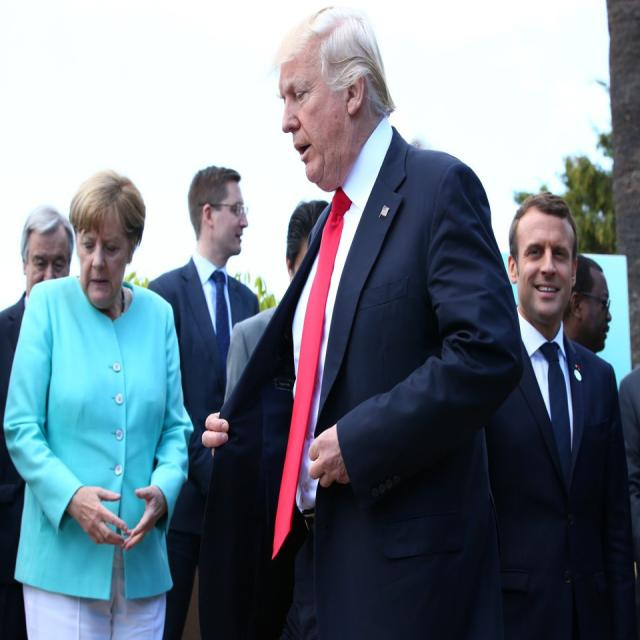body: (197, 0, 529, 638), (0, 159, 193, 639), (480, 188, 640, 640), (144, 164, 266, 639), (0, 204, 75, 639), (562, 241, 640, 595), (223, 198, 333, 404)
